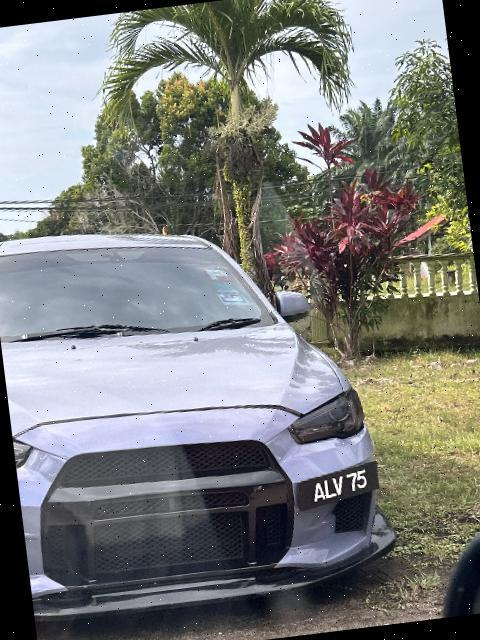ALV75: (294, 460, 383, 514)
License_Plate: (294, 460, 383, 514)
car: (1, 187, 418, 626)
